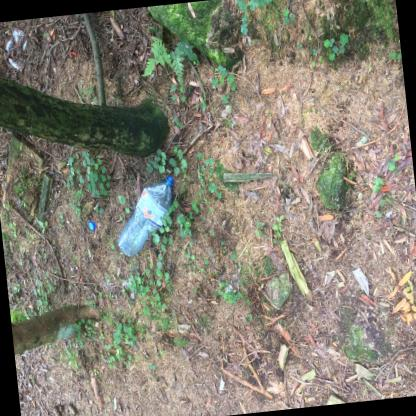Plastic: (117, 174, 174, 255), (88, 220, 95, 229)
